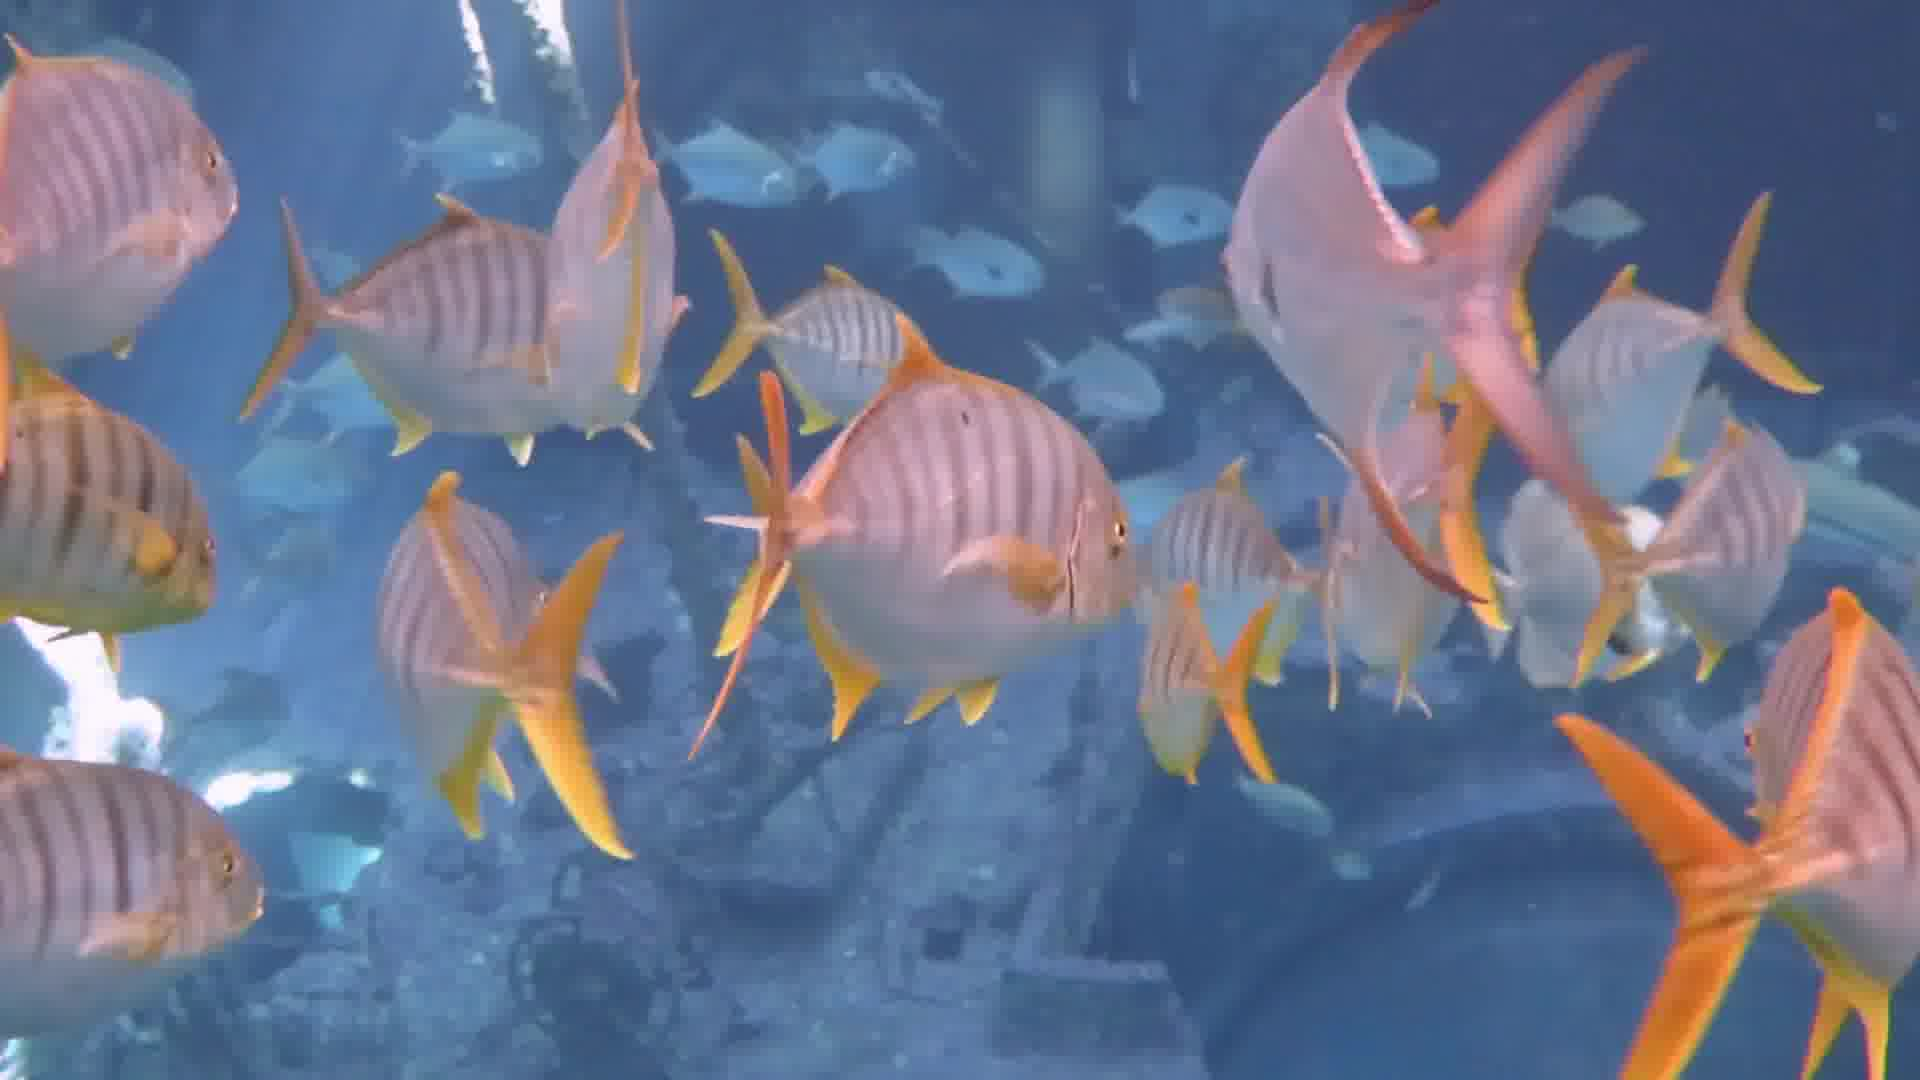Gnathanodon speciosus: (742, 386, 1146, 686), (1, 368, 218, 686), (7, 738, 265, 996)
